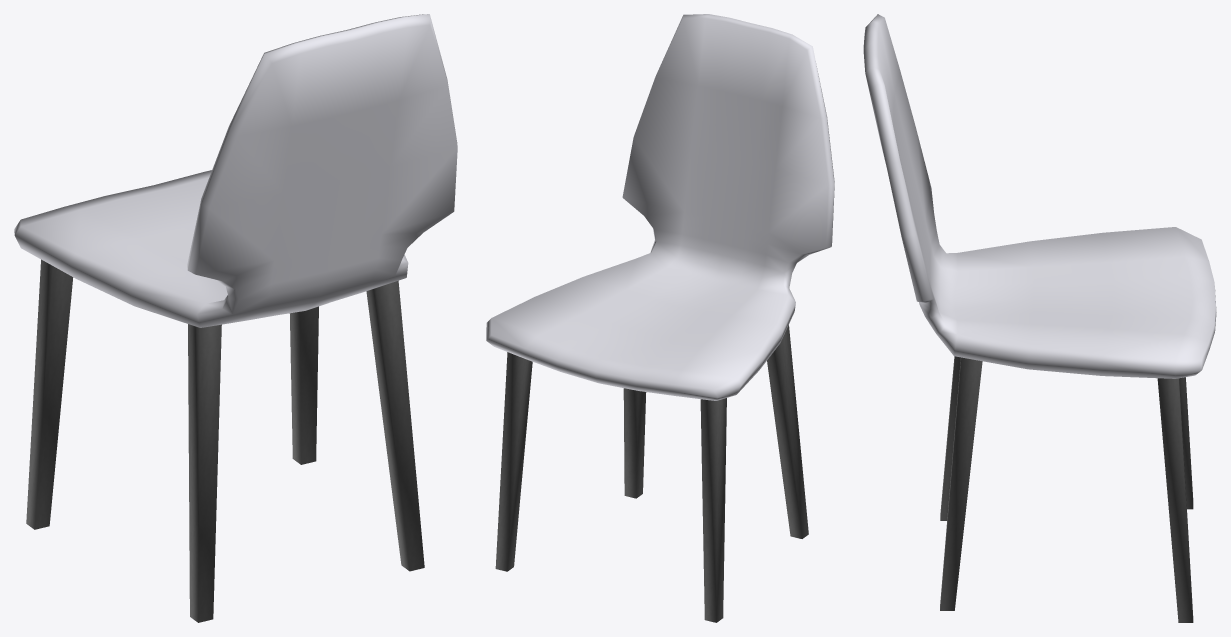
The model's file is frl_apartment_chair_04.obj.
The picture shows the model from 3 angles, left to right: view 1: azimuth 30°, elevation 25°; view 2: azimuth 150°, elevation 25°; view 3: azimuth 270°, elevation 25°; orthographic projection. The views are drawn at different scales.
Size of the model in its own units: 0.4901 by 0.8579 by 0.5279.
1 material, 1 textured.
